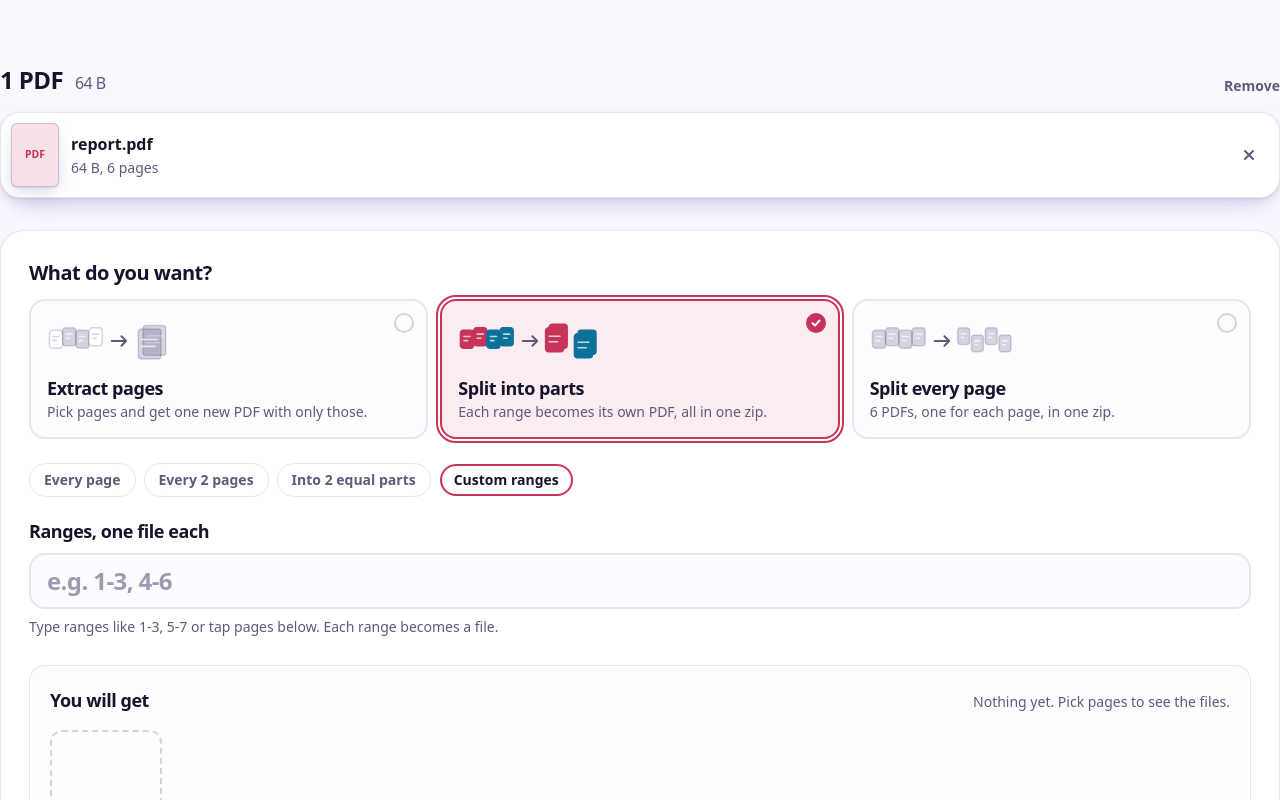
SplitTool › presets fill the ranges
Earlier steps of the test are not shown.
Click the button "Every 2 pages": [206, 480] box [144,463,269,497]
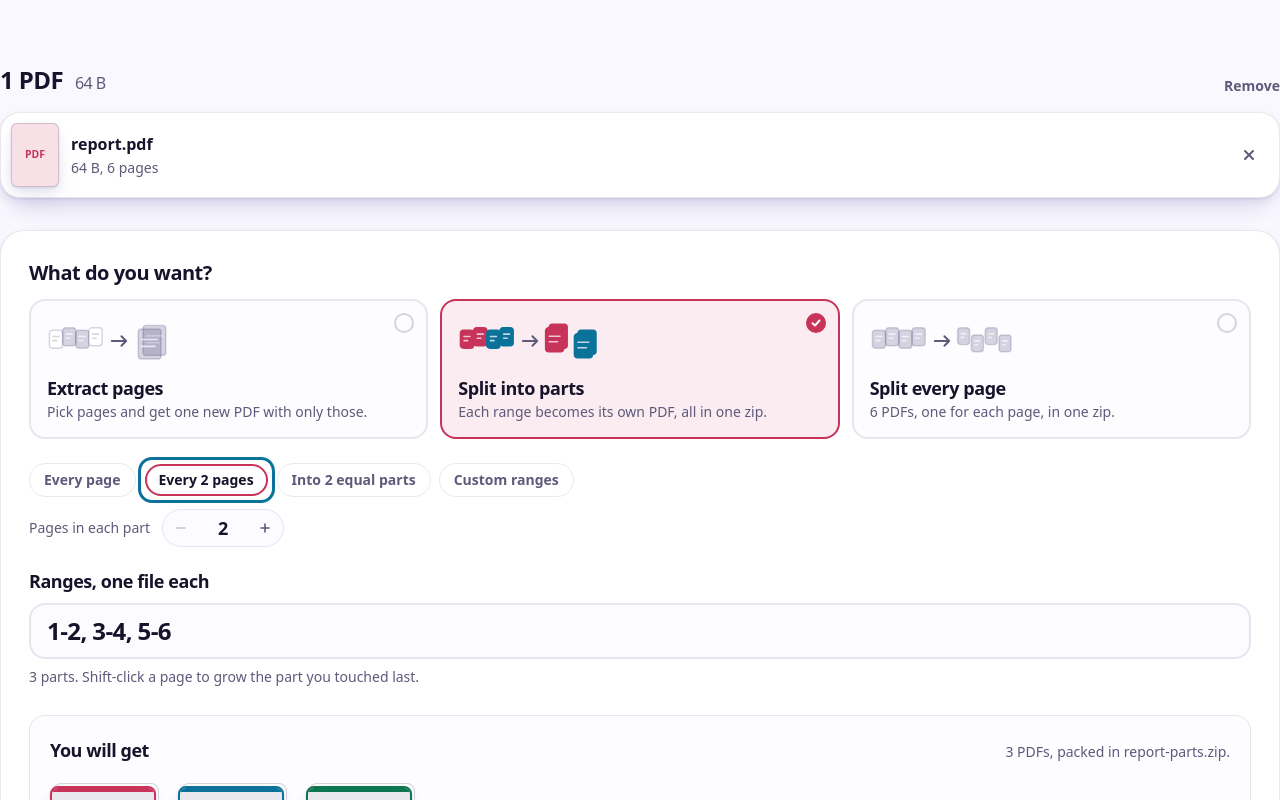
Check: the field labelled "Ranges, one file each" holds "1-2, 3-4, 5-6", box [29,603,1251,659]
Click the button named "More": [265, 528] box [247,510,283,546]
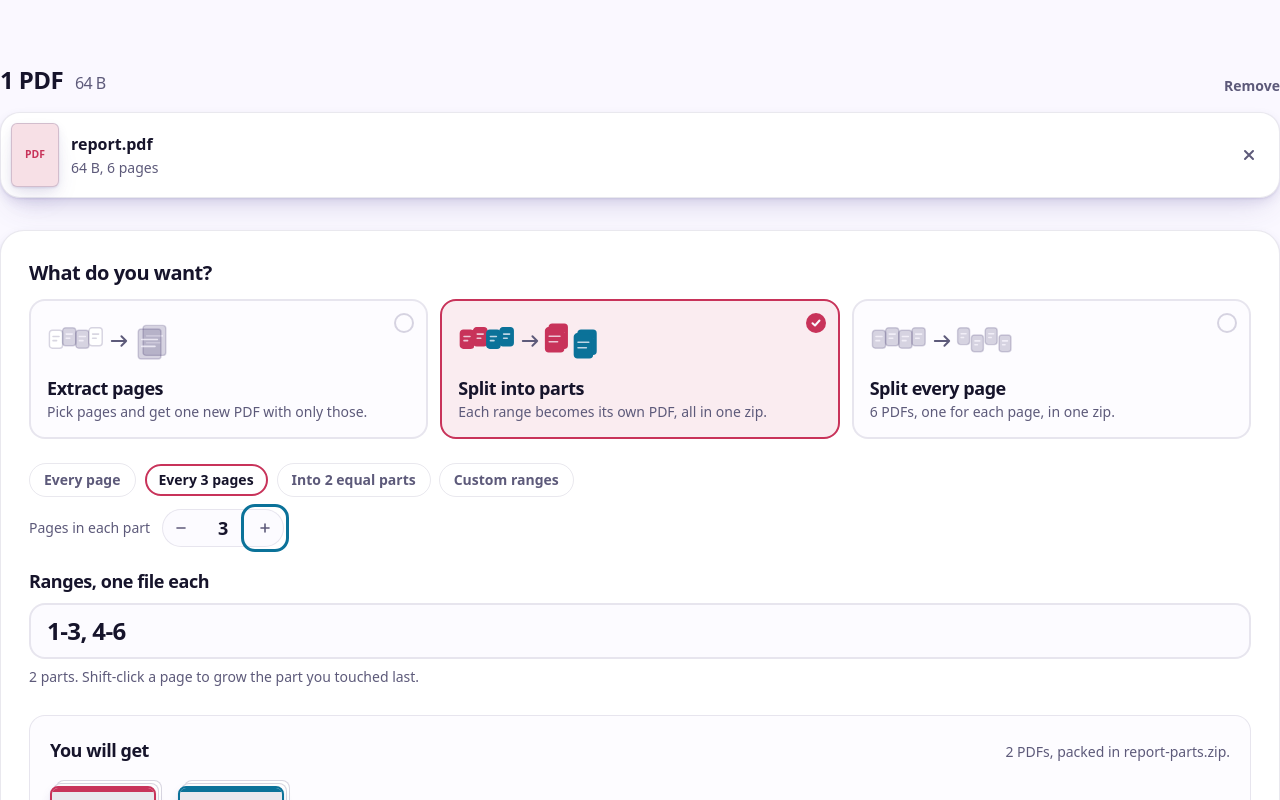
Check: the field labelled "Ranges, one file each" holds "1-3, 4-6", box [29,603,1251,659]
Click the button "Into 2 equal parts": [354, 480] box [277,463,431,497]
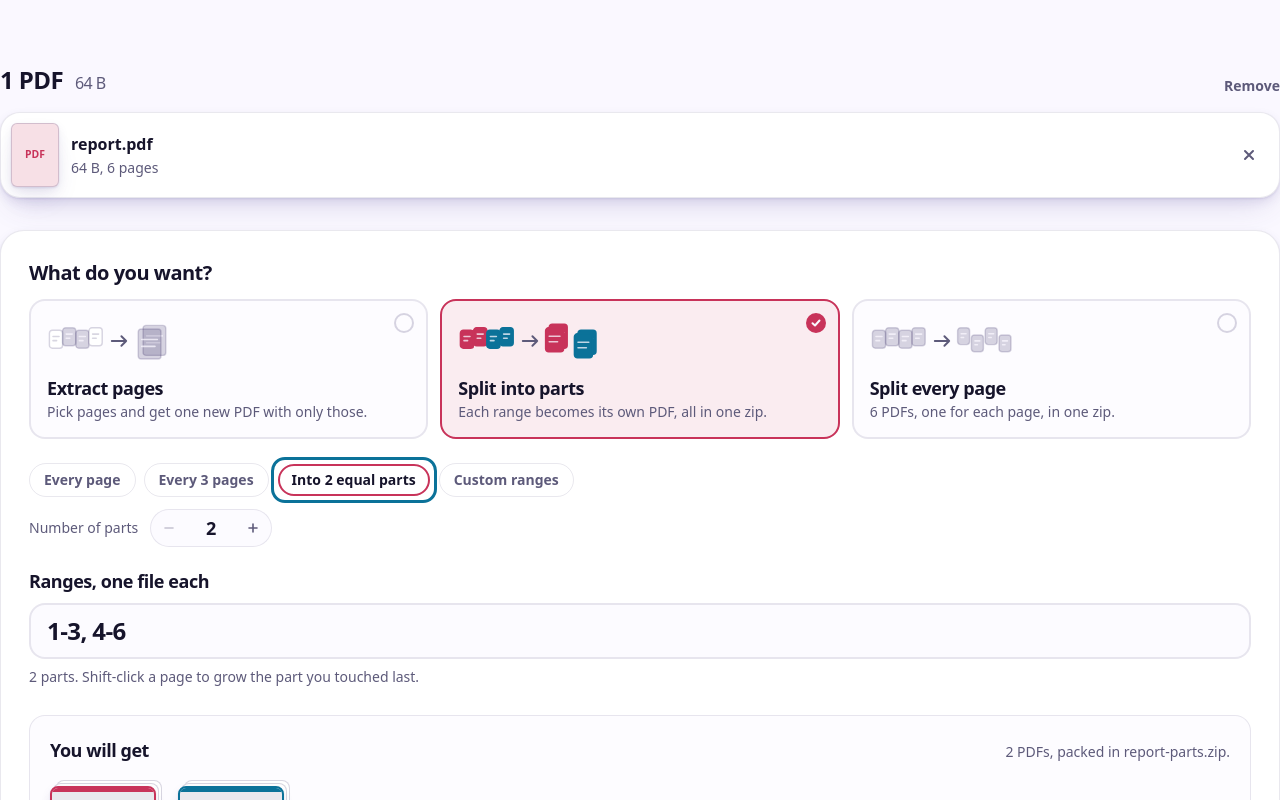
Click the button named "More": [253, 528] box [235,510,271,546]
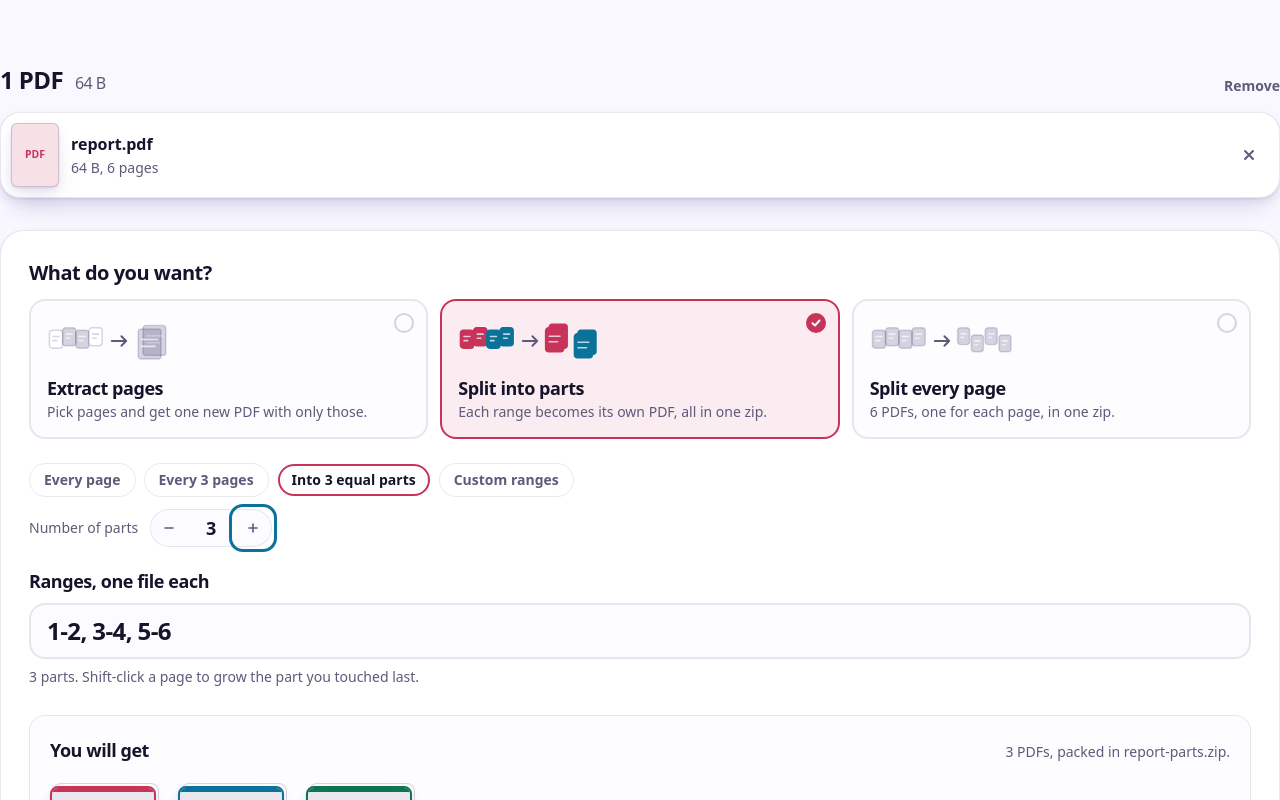
Check: the field labelled "Ranges, one file each" holds "1-2, 3-4, 5-6", box [29,603,1251,659]
Click the button "Every page": [82, 480] box [29,463,136,497]
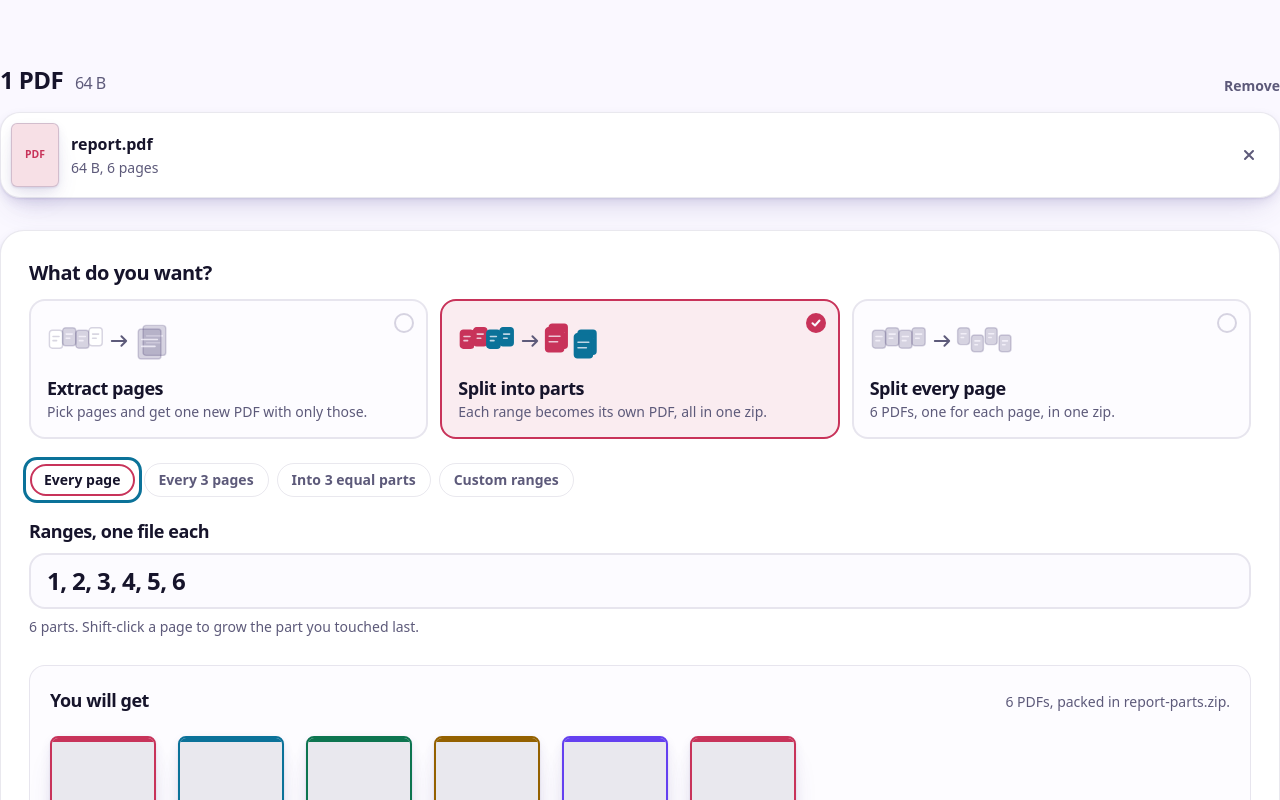
In the field labelled "Ranges, one file each": [640, 581] box [29,553,1251,609], type "0"
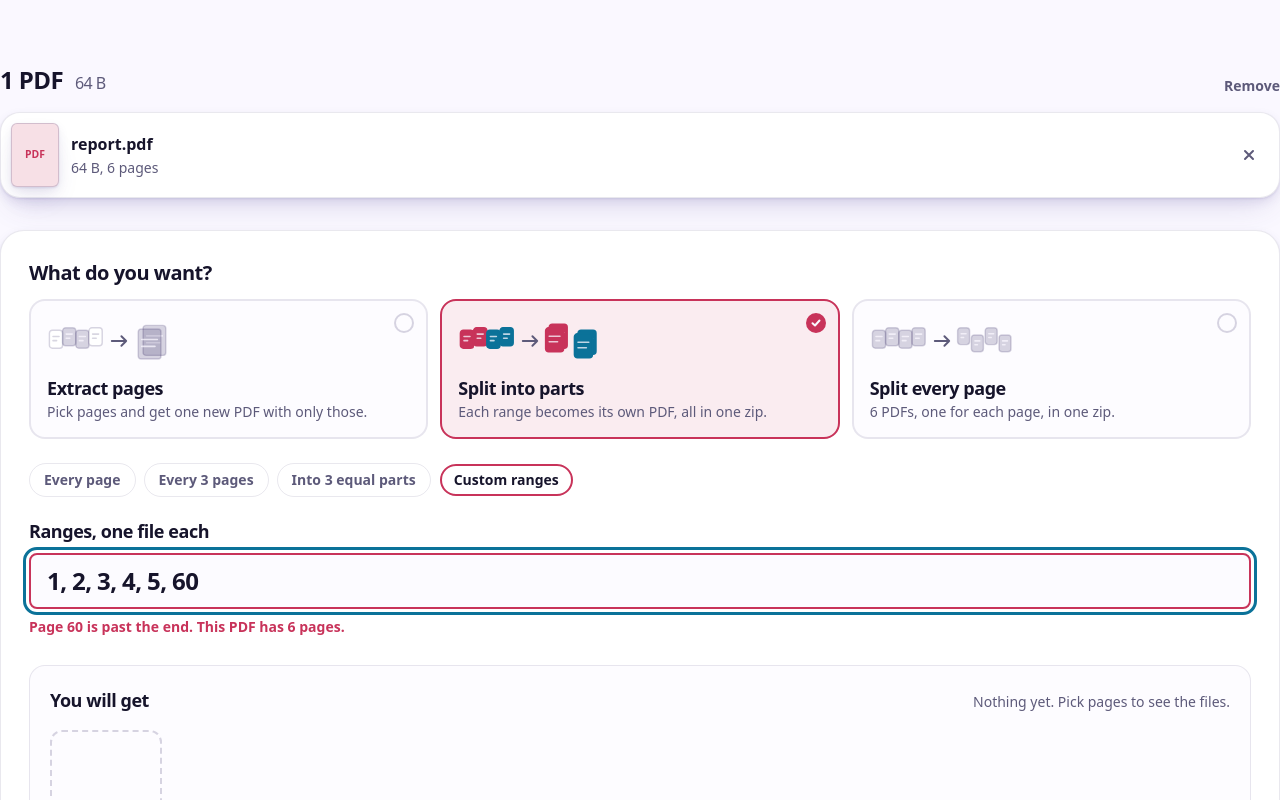
Check: the button "Custom ranges" is pressed, box [439,463,574,497]
